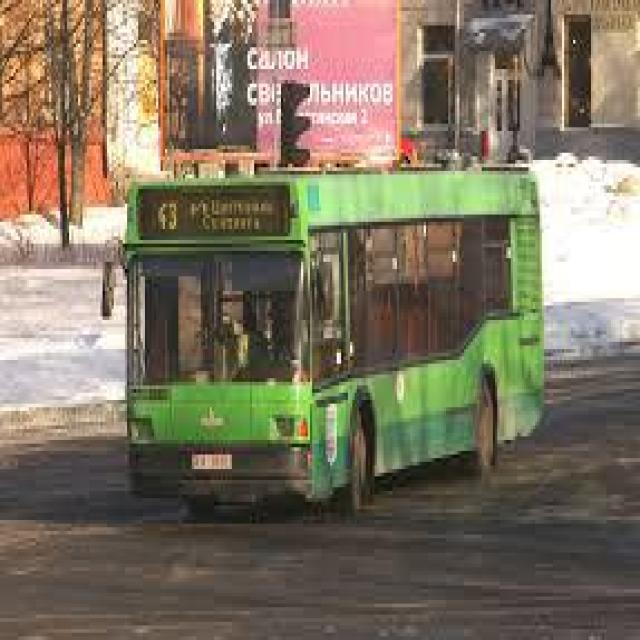bus: (101, 165, 554, 517)
